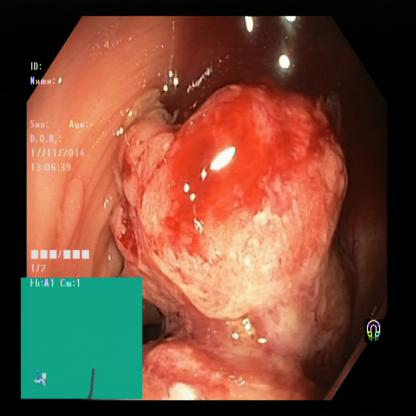Labels: (26, 58, 98, 282), (20, 280, 142, 398), (362, 308, 389, 348)
Polyps: (158, 130, 338, 302)
